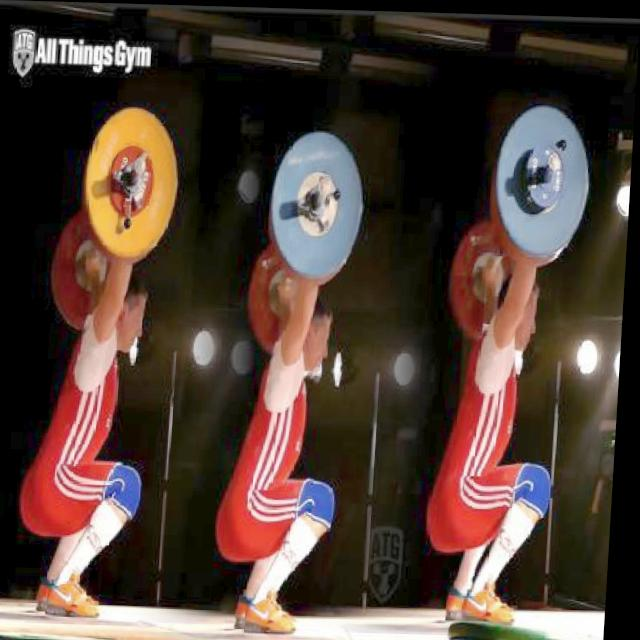barbell: (265, 121, 377, 284), (490, 94, 601, 257), (82, 103, 187, 269)
